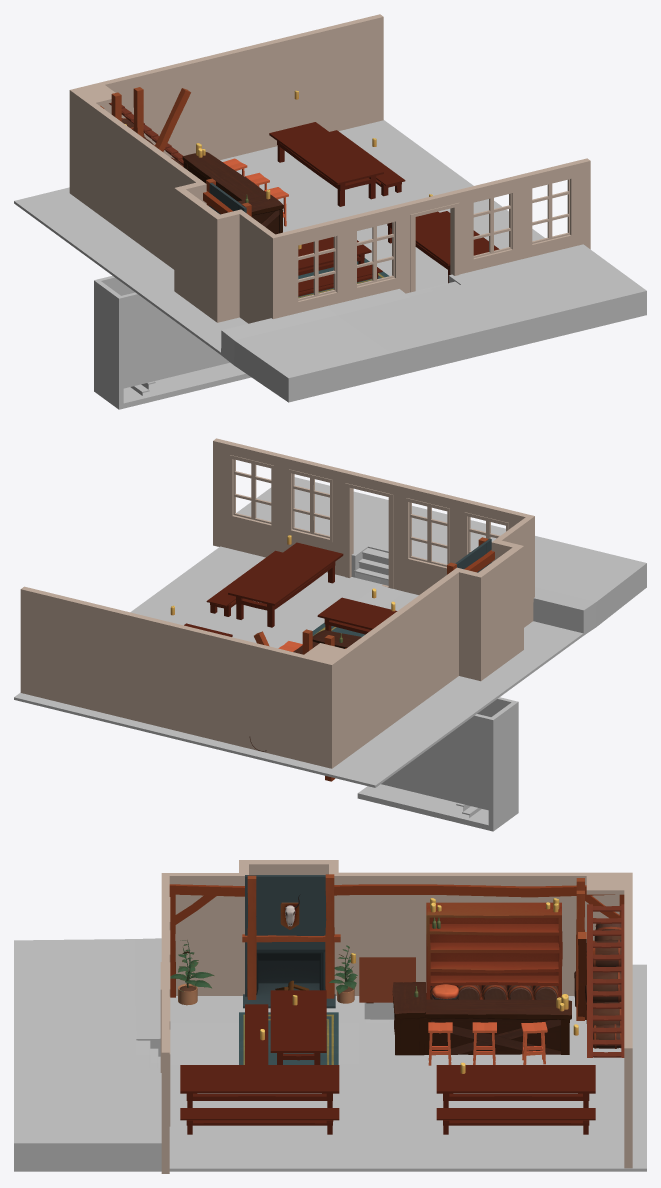
The model's file is Inn.fbx.
3 views of the same model, one above another, from view 1: azimuth 30°, elevation 25°; view 2: azimuth 150°, elevation 25°; view 3: azimuth 270°, elevation 25° (orthographic). The views are drawn at different scales.
Visible parts, largest first — view 1: Cube.010, Stairs.003, Cube.017, Cube.003, Bar_ORIGINAL.001_Cube.055, Cube.015, Bar_ORIGINAL.001_Cube.001, Cube.001, Cube.014, Straight Wooden Beam.003; view 2: Cube.010, Stairs.003, Cube.003, Cube.015, Cube.013; view 3: Stairs.003, Cube.010, Cube, Cube.012, Bar_ORIGINAL.001_Cube.055, Cube.003, Cube.017, Support Beam.001, Cube.015, Stairs.005, Cube.013, Cube.001 (+17 smaller).
Boxes of the visible parts, x1=… form: Cube.010: x1=69, y1=14, x2=590, y2=323; Stairs.003: x1=14, y1=120, x2=646, y2=409; Cube.017: x1=269, y1=122, x2=383, y2=206; Cube.003: x1=387, y1=211, x2=488, y2=283; Bar_ORIGINAL.001_Cube.055: x1=182, y1=152, x2=265, y2=201; Cube.015: x1=298, y1=237, x2=371, y2=275; Bar_ORIGINAL.001_Cube.001: x1=238, y1=194, x2=283, y2=234; Cube.001: x1=330, y1=130, x2=405, y2=196; Cube.014: x1=298, y1=264, x2=382, y2=296; Straight Wooden Beam.003: x1=155, y1=88, x2=190, y2=151; Cube.010: x1=20, y1=438, x2=534, y2=768; Stairs.003: x1=14, y1=477, x2=646, y2=831; Cube.003: x1=228, y1=542, x2=343, y2=627; Cube.015: x1=317, y1=597, x2=397, y2=634; Cube.013: x1=206, y1=550, x2=282, y2=616; Stairs.003: x1=14, y1=938, x2=646, y2=1171; Cube.010: x1=160, y1=860, x2=632, y2=1173; Cube: x1=426, y1=902, x2=562, y2=999; Cube.012: x1=243, y1=875, x2=335, y2=1008; Bar_ORIGINAL.001_Cube.055: x1=423, y1=999, x2=571, y2=1054; Cube.003: x1=180, y1=1065, x2=339, y2=1107; Cube.017: x1=436, y1=1065, x2=595, y2=1107; Support Beam.001: x1=169, y1=884, x2=624, y2=997; Cube.015: x1=270, y1=990, x2=326, y2=1064; Stairs.005: x1=587, y1=904, x2=624, y2=1057; Cube.013: x1=180, y1=1108, x2=339, y2=1134; Cube.001: x1=436, y1=1108, x2=595, y2=1134.
Size of the model in its own units: 2364 by 1302 by 2889.
